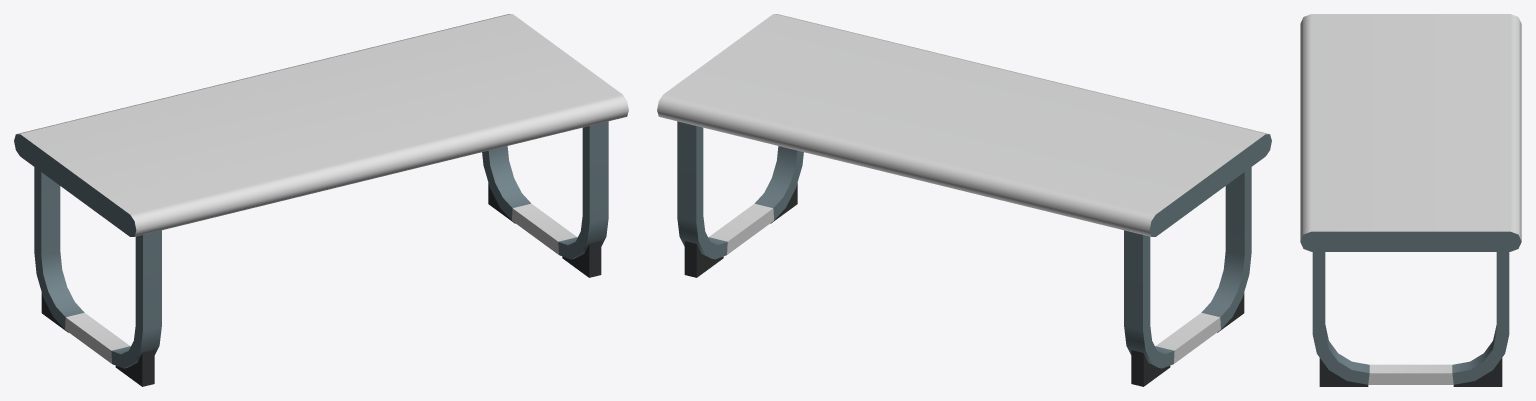
File: Desk_040.glb
3 renders of one model, left to right at view 1: azimuth 30°, elevation 25°; view 2: azimuth 150°, elevation 25°; view 3: azimuth 270°, elevation 25°, orthographic. The views are drawn at different scales.
Parts seen in each view (by area): view 1: Desk_040; view 2: Desk_040; view 3: Desk_040.
Part boxes in pixels (x1,y1,x2,y2): Desk_040: (14, 14, 628, 386); Desk_040: (657, 14, 1271, 386); Desk_040: (1300, 14, 1521, 386).
Size of the model in its own units: 2.44 by 0.8523 by 1.05.
Materials: 1 (1 with a texture image).
